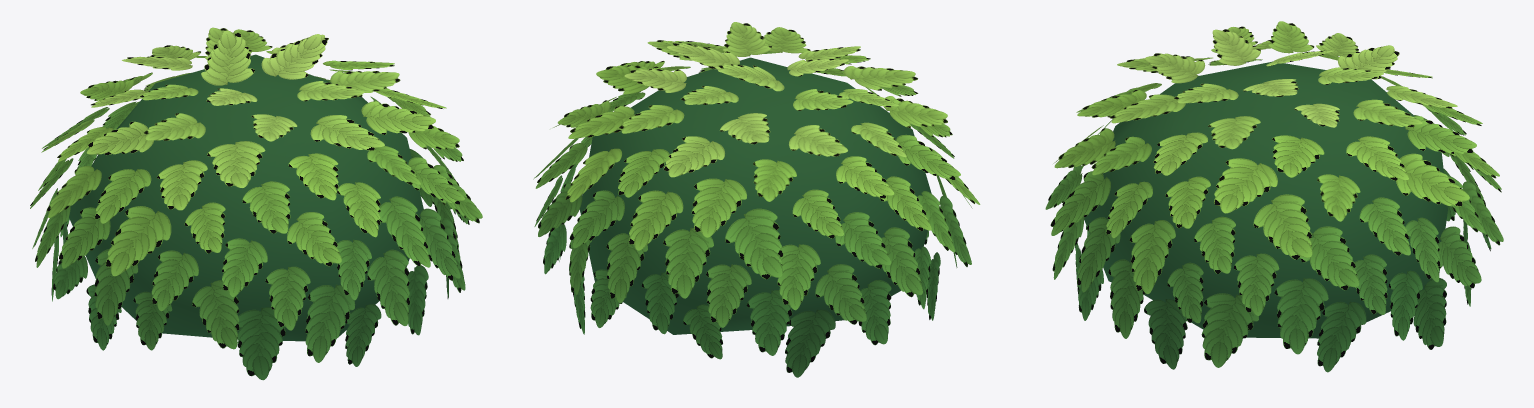
File: bush.glb
3 renders of one model, left to right at view 1: azimuth 30°, elevation 25°; view 2: azimuth 150°, elevation 25°; view 3: azimuth 270°, elevation 25°, orthographic. The views are drawn at different scales.
Parts seen in each view (by area): view 1: bush; view 2: bush; view 3: bush.
Part boxes in pixels (x1,y1,x2,y2): bush: (30,27,482,380); bush: (533,22,980,377); bush: (1045,21,1503,372).
Size of the model in its own units: 1.69 by 1.11 by 1.71.
Materials: 2 (1 with a texture image).
